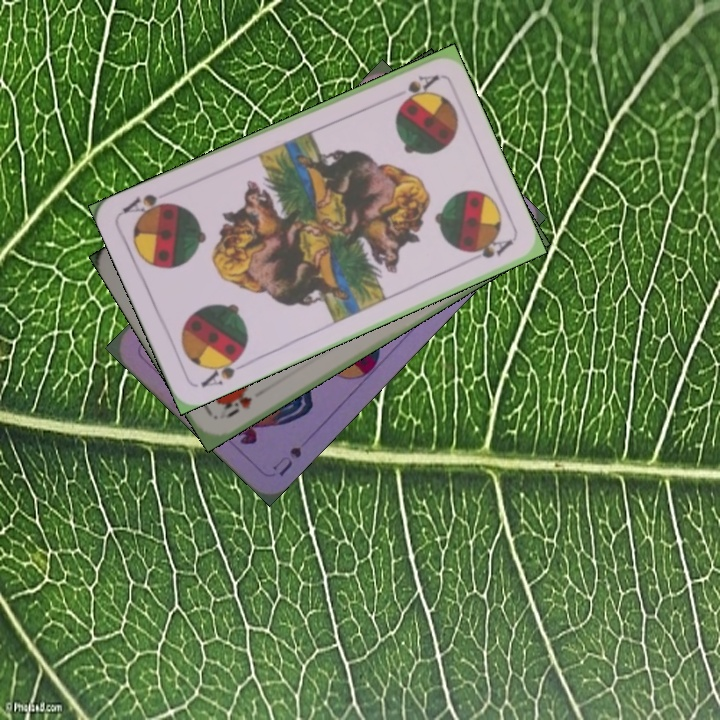HO: (218, 389, 255, 421)
SA: (196, 349, 251, 390), (398, 70, 441, 104)
SU: (269, 441, 305, 479)
